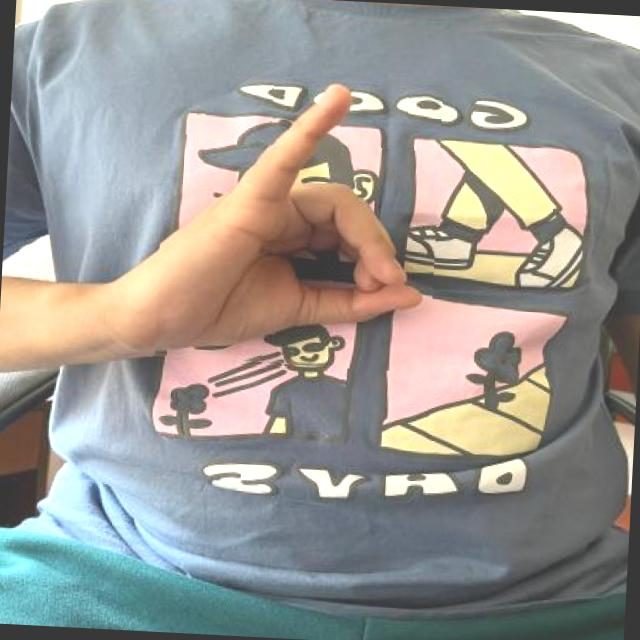D: (152, 71, 444, 375)
